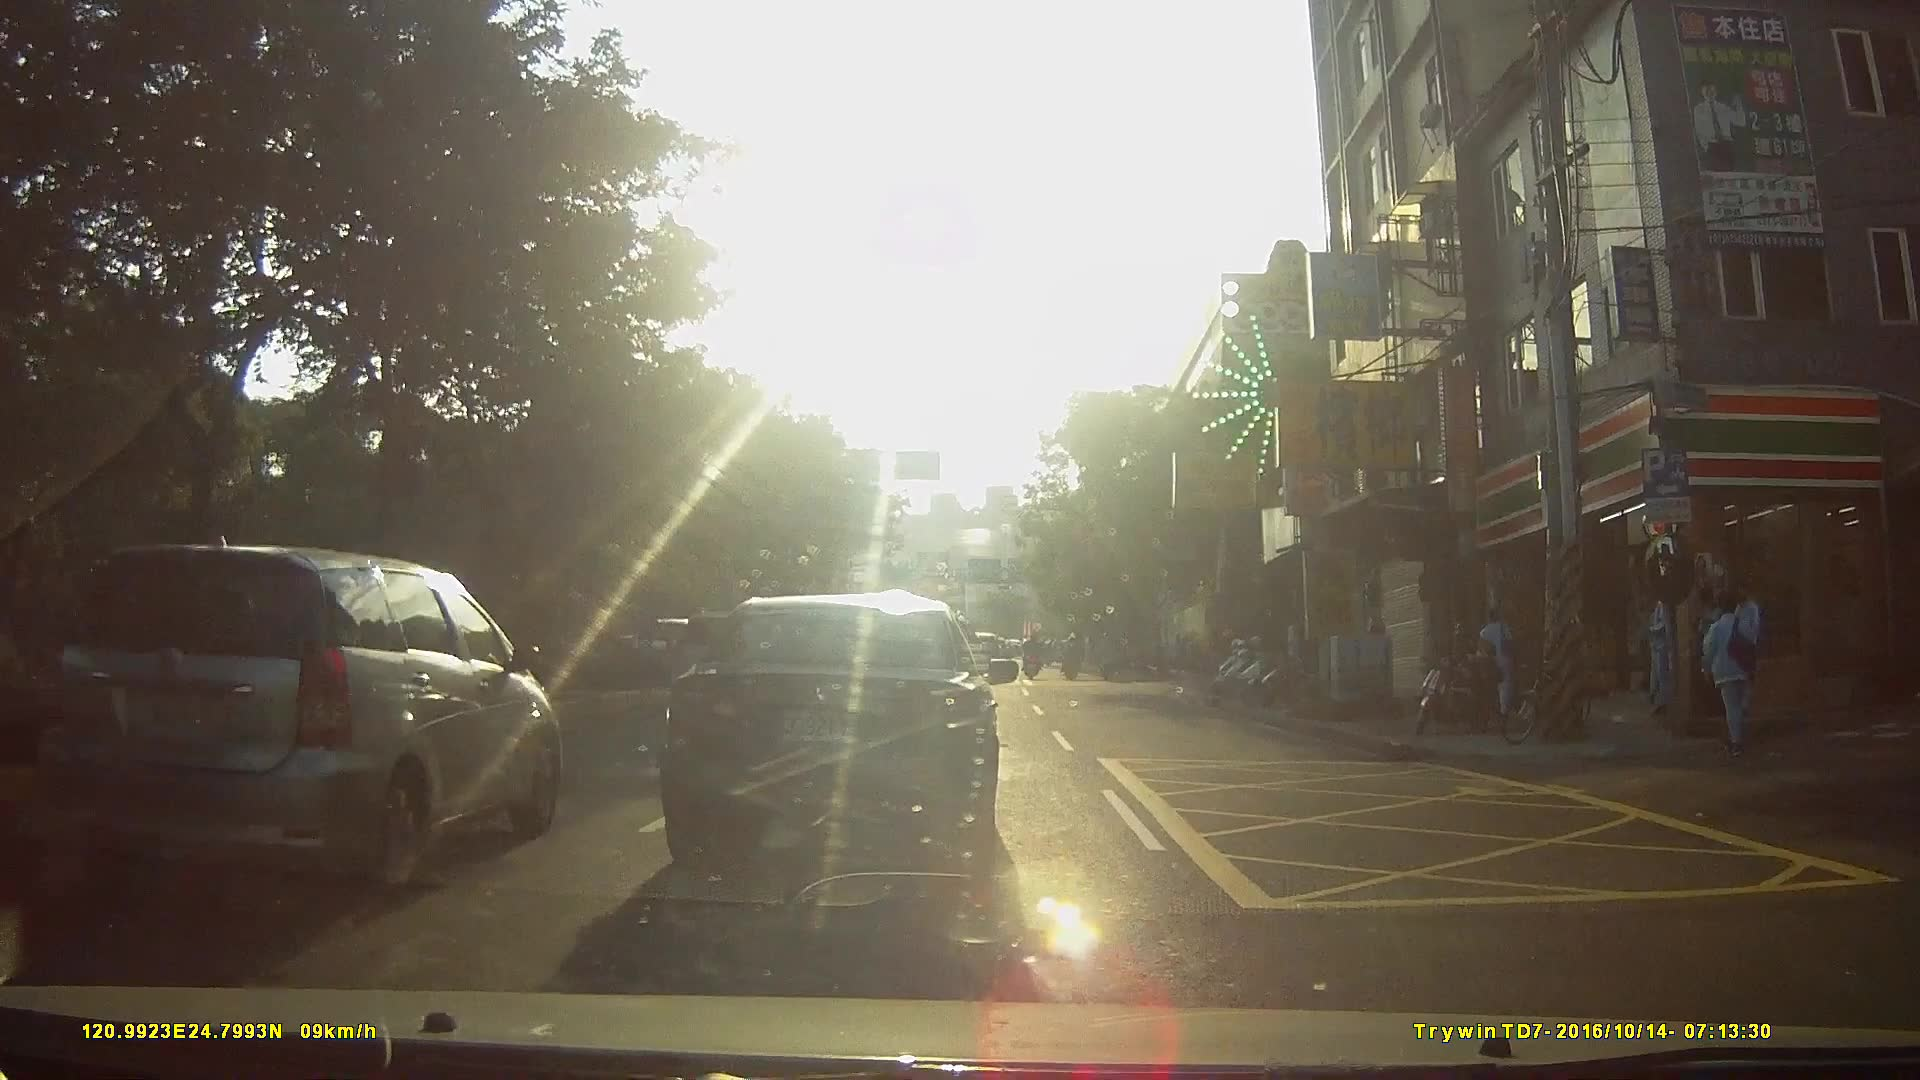pedestrian: (1706, 595, 1766, 761), (1476, 608, 1523, 716), (1698, 574, 1734, 712), (1630, 585, 1666, 716)
rider: (1062, 626, 1088, 686), (1095, 627, 1119, 686), (1022, 633, 1047, 681)
vehicle: (37, 547, 579, 886), (612, 578, 1029, 871)
